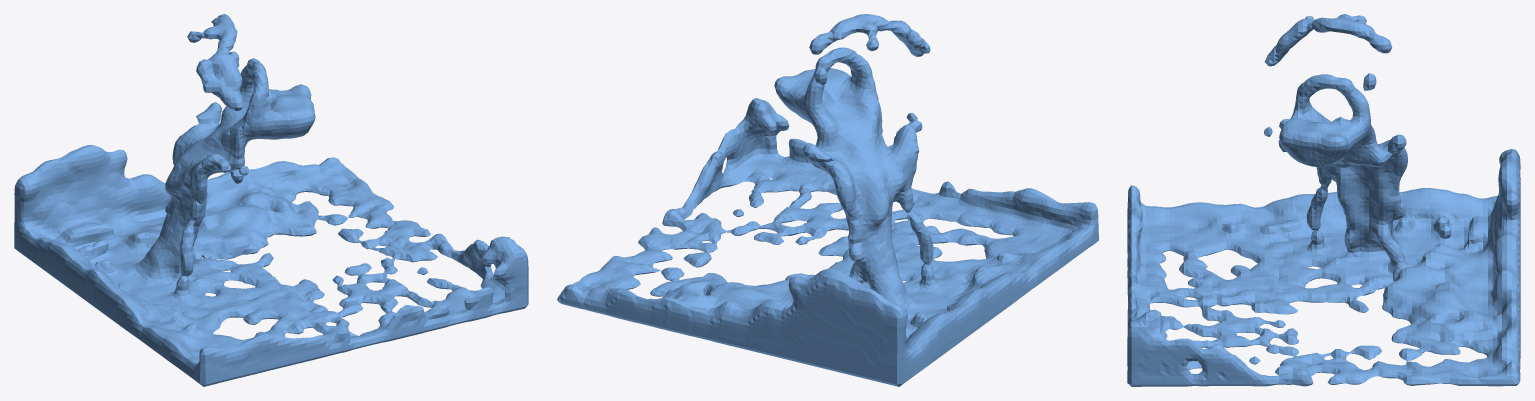
File: water_0068.glb
3 views of the same model, side by side, from view 1: azimuth 30°, elevation 25°; view 2: azimuth 150°, elevation 25°; view 3: azimuth 270°, elevation 25° (orthographic). The views are drawn at different scales.
Visible parts, largest first — view 1: Water_0068; view 2: Water_0068; view 3: Water_0068.
Boxes of the visible parts, <box> form: Water_0068: <box>14,14,528,386</box>; Water_0068: <box>557,14,1098,386</box>; Water_0068: <box>1127,14,1520,386</box>.
Size of the model in its own units: 4.83 by 3.63 by 4.83.
